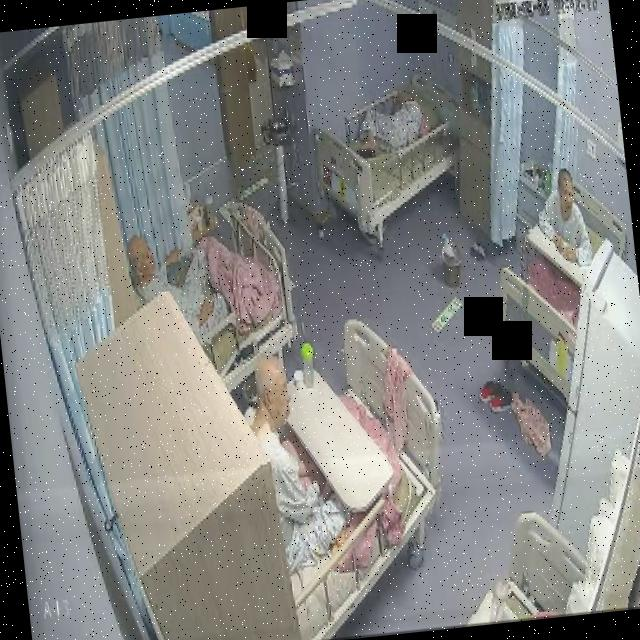bed: (254, 313, 460, 640), (481, 174, 640, 411), (158, 199, 302, 402), (307, 69, 463, 238)
lie: (351, 90, 430, 168)
patient: (238, 346, 356, 574), (123, 214, 224, 343), (531, 162, 595, 270), (351, 90, 431, 168)
sit: (236, 346, 355, 578), (123, 214, 225, 341), (532, 162, 594, 269)
